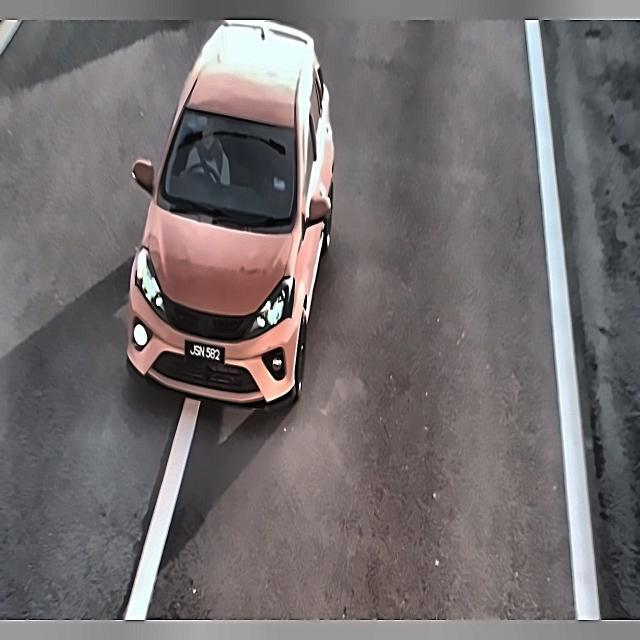car: (180, 324, 228, 374)
